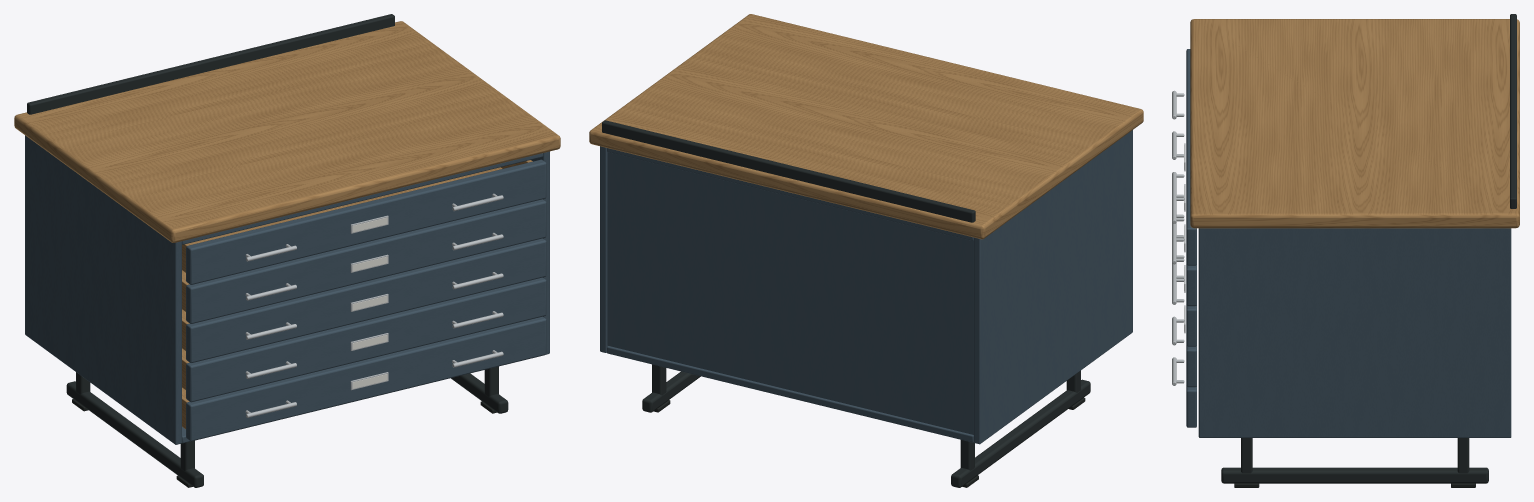
File: plan_chest.gltf
The picture shows the model from 3 angles, left to right: view 1: azimuth 30°, elevation 25°; view 2: azimuth 150°, elevation 25°; view 3: azimuth 270°, elevation 25°; orthographic projection. The views are drawn at different scales.
Visible parts, largest first — view 1: Plan chest | solid oak work surface, Case | side, Plan drawer 4 | front, Plan drawer 1 | front, Plan drawer 3 | front, Plan drawer 0 | front, Plan drawer 2 | front, Top | rear sheet stop, Plan chest | steel sled, Case | horizontal panel.001, Case | side.001, Plan drawer 4 | drawer bottom (+1 smaller); view 2: Case | inset back, Plan chest | solid oak work surface, Case | side, Top | rear sheet stop, Case | horizontal panel, Plan chest | steel sled, Case | horizontal panel.001, Case | side.001, Plan chest | steel sled.001; view 3: Plan chest | solid oak work surface, Case | side.001, Plan chest | steel sled.001, Top | rear sheet stop, Plan drawer 4 | front, Sled | upright.003, Plan drawer 1 | front, Plan drawer 3 | front, Plan drawer 0 | front, Plan drawer 2 | front, Sled | upright.002.
Part boxes in pixels (bbox=[...]): Plan chest | solid oak work surface: bbox=[14, 21, 560, 242]; Case | side: bbox=[25, 135, 181, 444]; Plan drawer 4 | front: bbox=[186, 159, 546, 284]; Plan drawer 1 | front: bbox=[186, 277, 546, 402]; Plan drawer 3 | front: bbox=[186, 199, 546, 323]; Plan drawer 0 | front: bbox=[186, 316, 546, 441]; Plan drawer 2 | front: bbox=[186, 238, 546, 362]; Top | rear sheet stop: bbox=[27, 14, 394, 114]; Plan chest | steel sled: bbox=[66, 381, 203, 487]; Case | horizontal panel.001: bbox=[182, 153, 543, 244]; Case | side.001: bbox=[531, 151, 549, 354]; Plan drawer 4 | drawer bottom: bbox=[189, 167, 502, 244]; Case | inset back: bbox=[607, 152, 973, 434]; Plan chest | solid oak work surface: bbox=[589, 14, 1143, 239]; Case | side: bbox=[973, 130, 1132, 444]; Top | rear sheet stop: bbox=[602, 120, 975, 222]; Case | horizontal panel: bbox=[607, 346, 973, 442]; Plan chest | steel sled: bbox=[951, 379, 1090, 487]; Case | horizontal panel.001: bbox=[607, 148, 973, 240]; Case | side.001: bbox=[600, 146, 607, 352]; Plan chest | steel sled.001: bbox=[642, 371, 700, 412]; Plan chest | solid oak work surface: bbox=[1190, 19, 1519, 228]; Case | side.001: bbox=[1198, 228, 1511, 437]; Plan chest | steel sled.001: bbox=[1221, 467, 1488, 483]; Top | rear sheet stop: bbox=[1510, 14, 1516, 208]; Plan drawer 4 | front: bbox=[1186, 49, 1196, 265]; Sled | upright.003: bbox=[1457, 438, 1469, 473]; Plan drawer 1 | front: bbox=[1186, 345, 1196, 387]; Plan drawer 3 | front: bbox=[1186, 264, 1196, 306]; Plan drawer 0 | front: bbox=[1186, 385, 1196, 427]; Plan drawer 2 | front: bbox=[1186, 304, 1196, 346]; Sled | upright.002: bbox=[1241, 438, 1252, 473].
Size of the model in its own units: 1.23 by 0.8815 by 0.918.
Materials: 6 (2 with a texture image).
